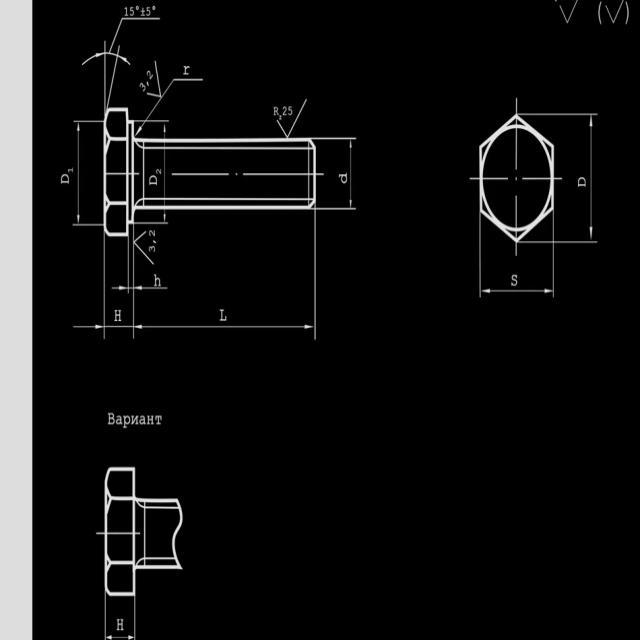marking_line: (135, 324, 315, 334), (75, 124, 82, 223), (482, 287, 554, 296), (589, 114, 594, 240), (163, 123, 168, 221), (348, 141, 354, 207), (69, 321, 103, 331), (136, 285, 173, 293), (106, 633, 133, 640), (109, 285, 126, 293)
numeric: (124, 3, 158, 16), (136, 69, 154, 93), (148, 227, 159, 256), (282, 104, 294, 118)
special_symbol: (79, 44, 132, 106), (135, 94, 162, 138), (273, 119, 303, 138)
